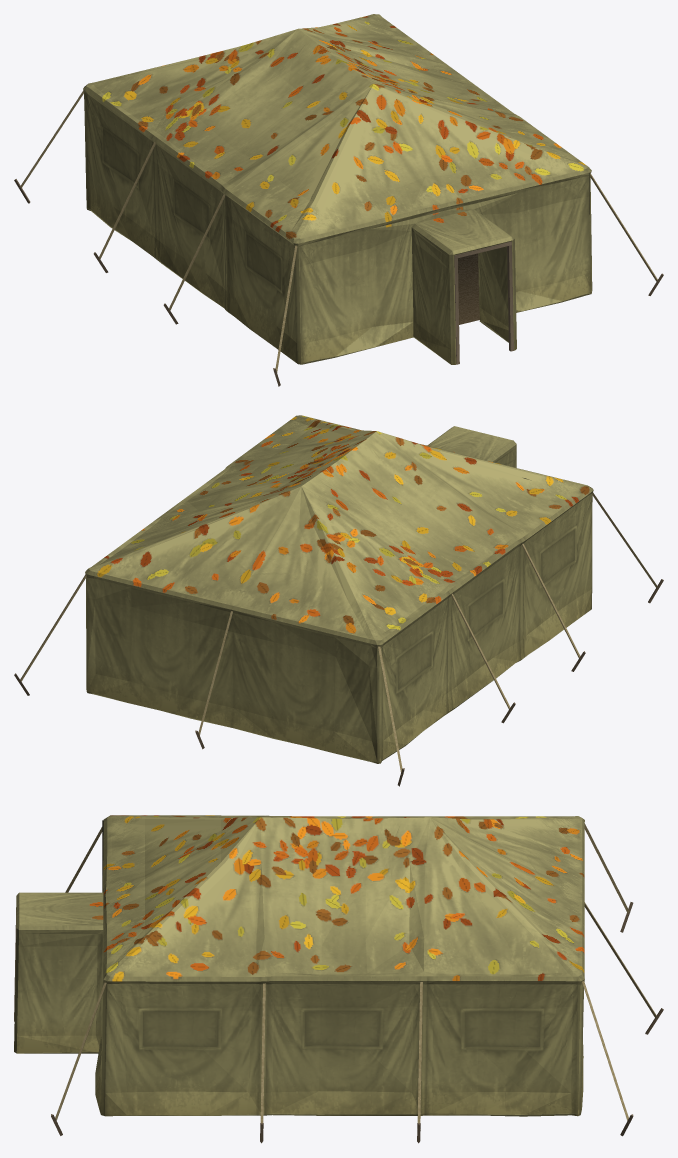
Rendered from SM_ArmyTent.fbx.
The picture shows the model from 3 angles, top to bottom: view 1: azimuth 30°, elevation 25°; view 2: azimuth 150°, elevation 25°; view 3: azimuth 270°, elevation 25°; orthographic projection. The views are drawn at different scales.
Parts seen in each view (by area): view 1: SM_ArmyTent; view 2: SM_ArmyTent; view 3: SM_ArmyTent.
Part boxes in pixels (x1,y1,x2,y2): SM_ArmyTent: [14, 14, 663, 386]; SM_ArmyTent: [14, 415, 663, 786]; SM_ArmyTent: [14, 815, 663, 1143].
Size of the model in its own units: 767 by 336 by 911.
Materials: 1 (1 with a texture image).
